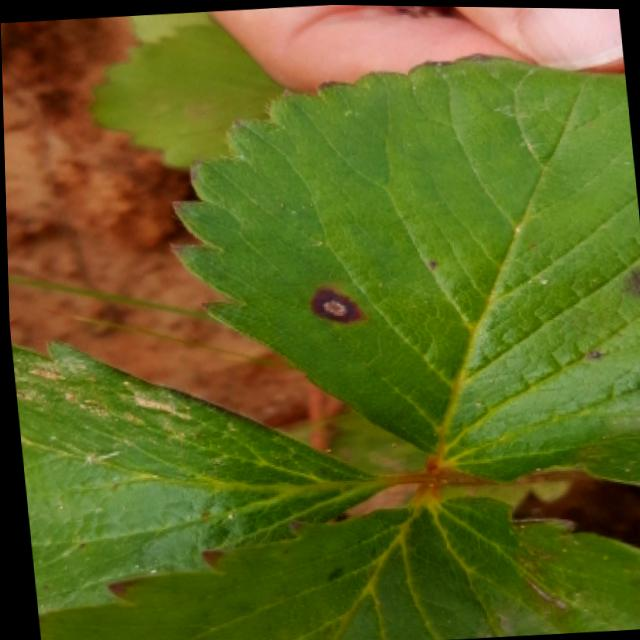Leaf Spot: (164, 50, 640, 484), (34, 491, 640, 640)
